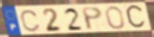2: (41, 7, 63, 33), (63, 7, 84, 31)
C: (125, 3, 148, 31), (20, 9, 42, 33)
O: (105, 6, 126, 30)
P: (80, 6, 104, 31)
